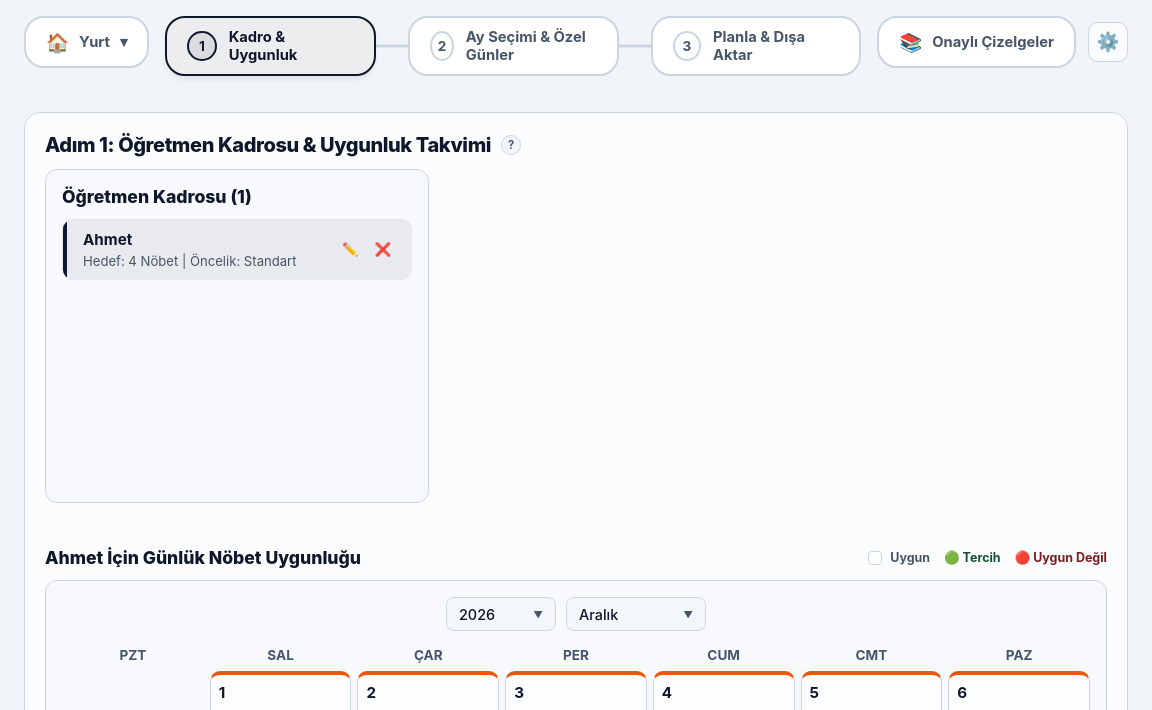
Test: approving a schedule › shows when the schedule was approved while it still matches
Expected: the text "Adım 1: Öğretmen Kadrosu & Uygunluk Takvimi" is shown, [45,133,491,157]
Click the text "Planla & Dışa Aktar" at (759, 46), box [713,28,805,64]
(page scrolled)
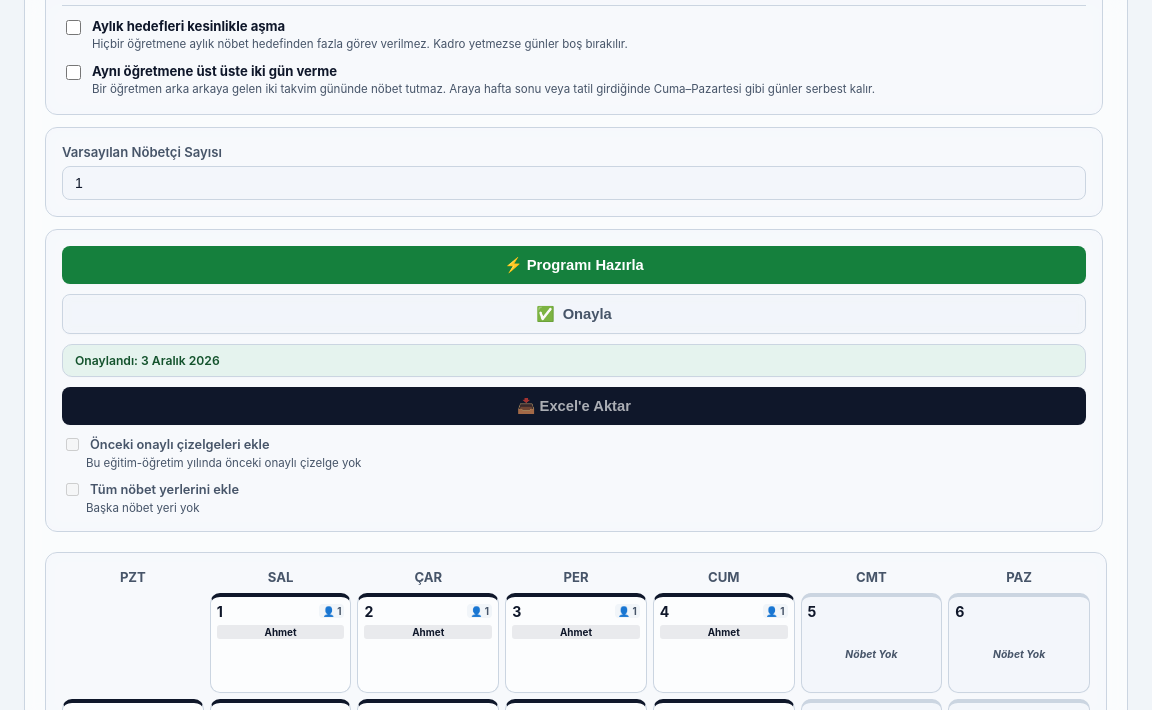
Expected: the text "Onaylandı: 3 Aralık 2026" is shown, [62,344,1086,377]
